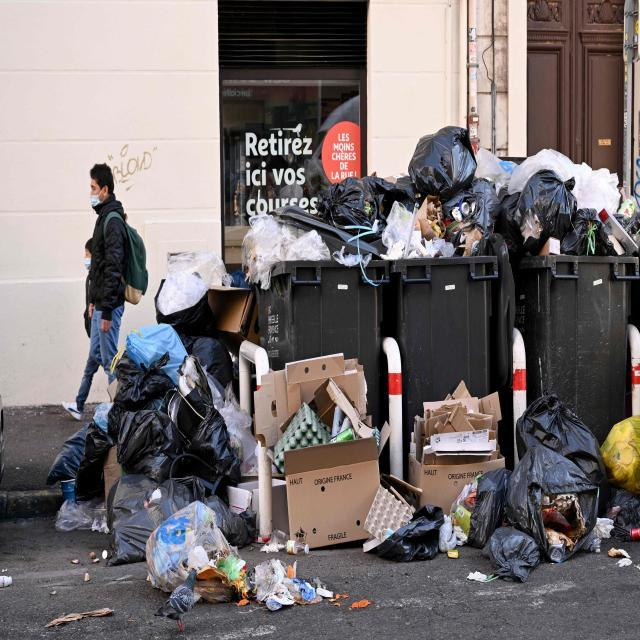garbage: (106, 127, 640, 622)
